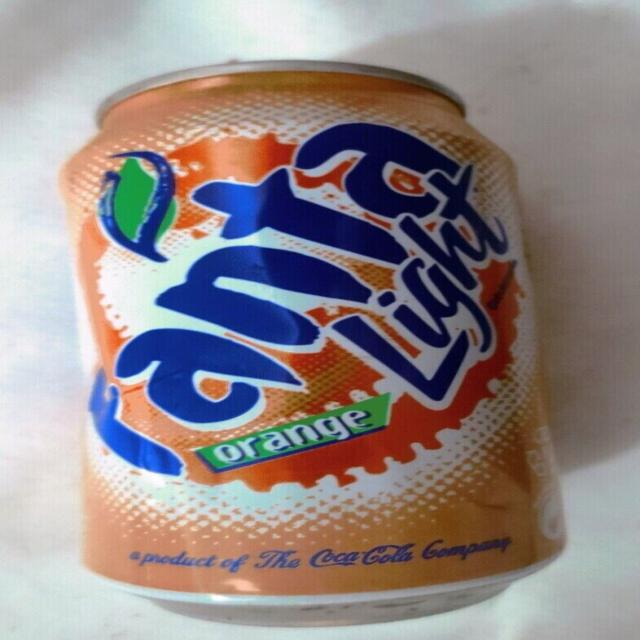fanta: (71, 67, 584, 629)
